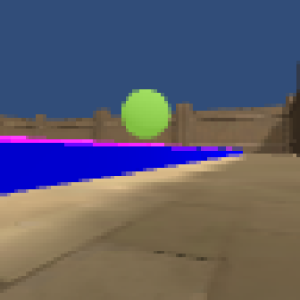goodGoal: (118, 83, 174, 142)
platform: (1, 147, 243, 191)
ramp: (1, 135, 167, 147)
